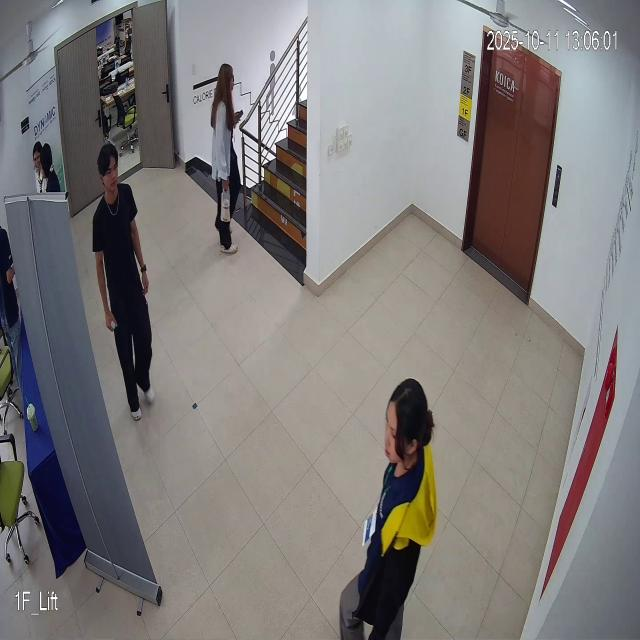face: (96, 144, 124, 194)
